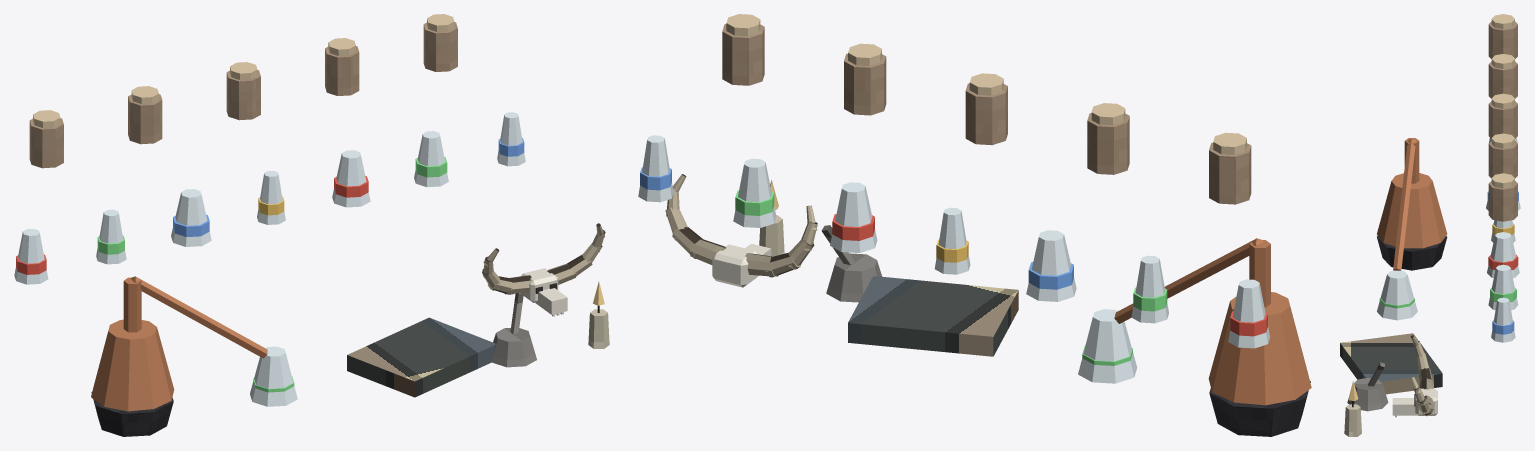
The model's file is alchemy_set.obj.
3 renders of one model, left to right at view 1: azimuth 30°, elevation 25°; view 2: azimuth 150°, elevation 25°; view 3: azimuth 270°, elevation 25°, orthographic. The views are drawn at different scales.
Visible parts, largest first — view 1: alchemy_set; view 2: alchemy_set; view 3: alchemy_set.
Part boxes in pixels (x1,y1,x2,y2): alchemy_set: (14, 14, 609, 436); alchemy_set: (638, 14, 1311, 436); alchemy_set: (1340, 14, 1520, 436).
Size of the model in its own units: 1.75 by 0.855 by 0.614.
